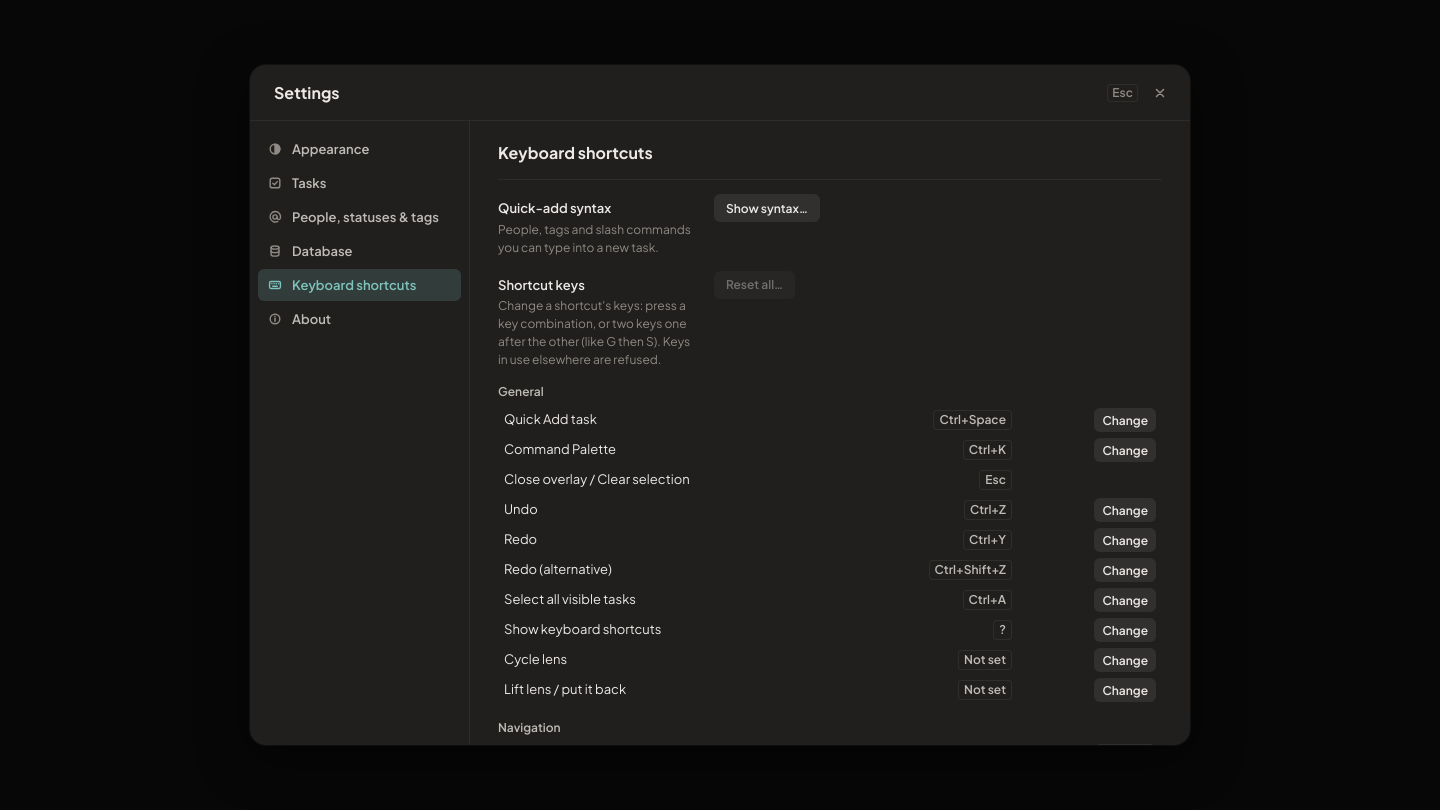
Test: Settings › Keyboard shortcuts editor › records a new combo, shows it as changed, and resets it
Step 1. Click the button with aria-label "Change keys for Command Palette" → (1125, 450), box left=1094, top=438, right=1156, bottom=462
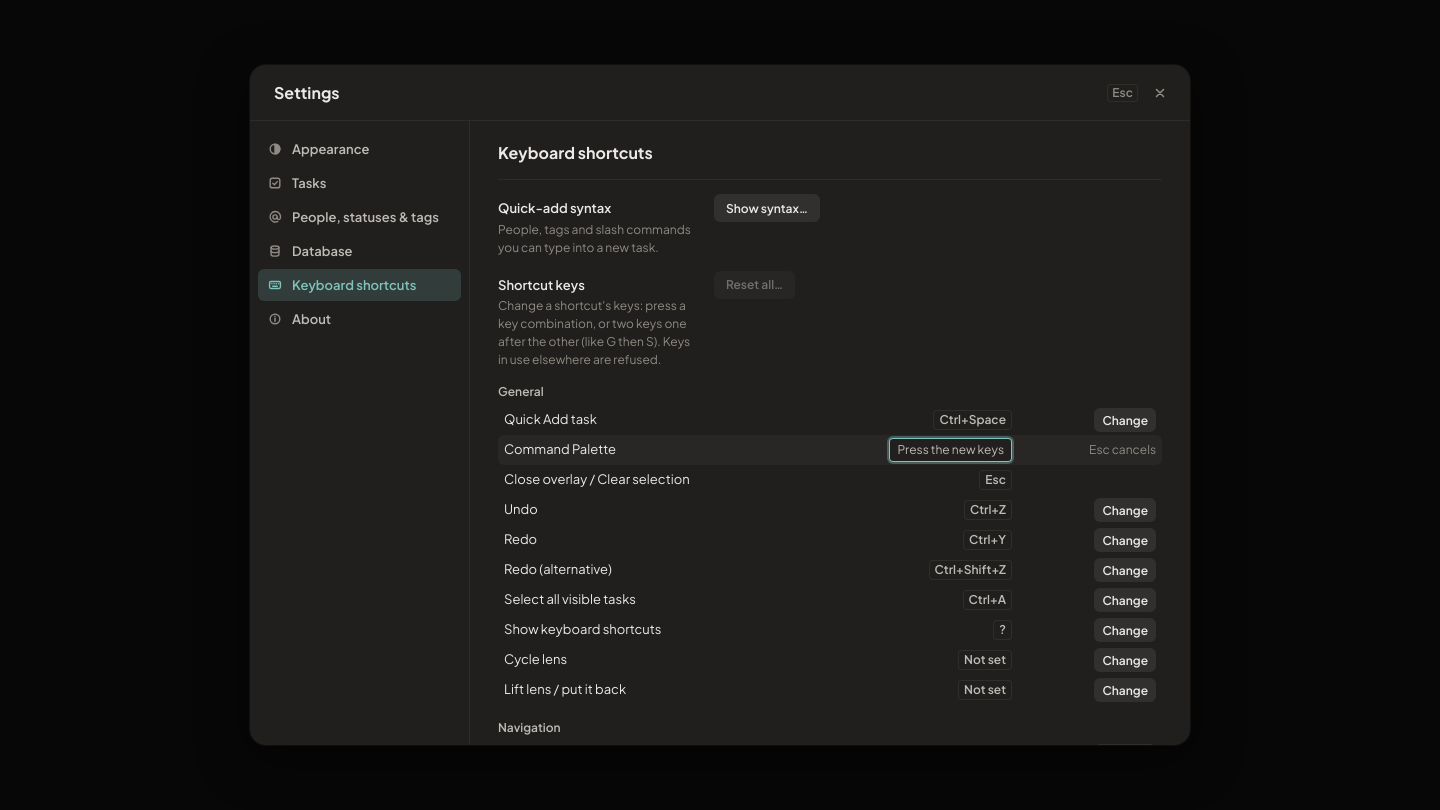
Step 2. Press Control in the field named "New keys for Command Palette", box left=889, top=438, right=1012, bottom=462
Step 3. Press P in the field named "New keys for Command Palette", box left=889, top=438, right=1012, bottom=462
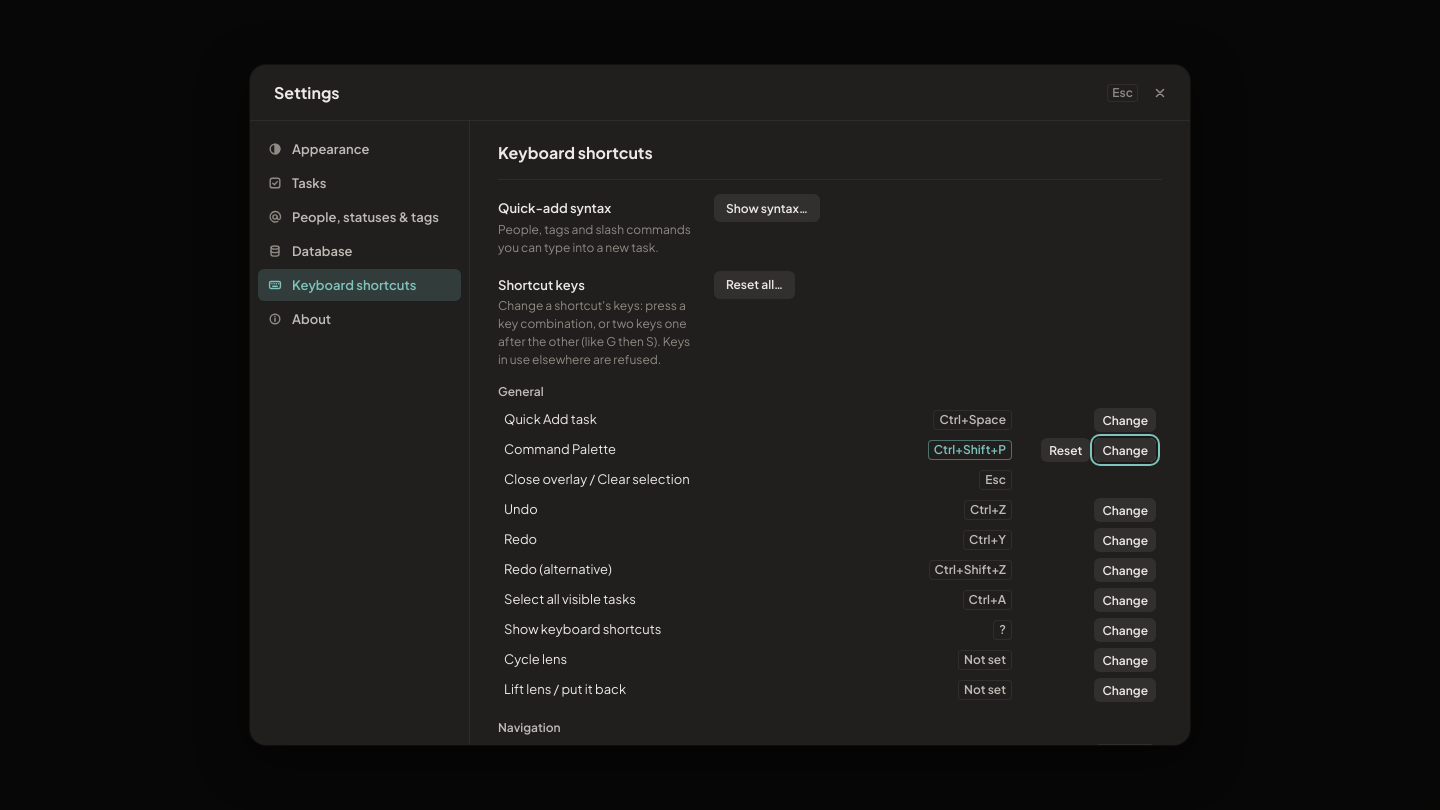
Expected: the text "Ctrl+Shift+P" is shown, left=928, top=440, right=1012, bottom=460
Step 4. Click the button with aria-label "Reset Command Palette to Ctrl+K" → (1066, 450), box left=1041, top=438, right=1090, bottom=462
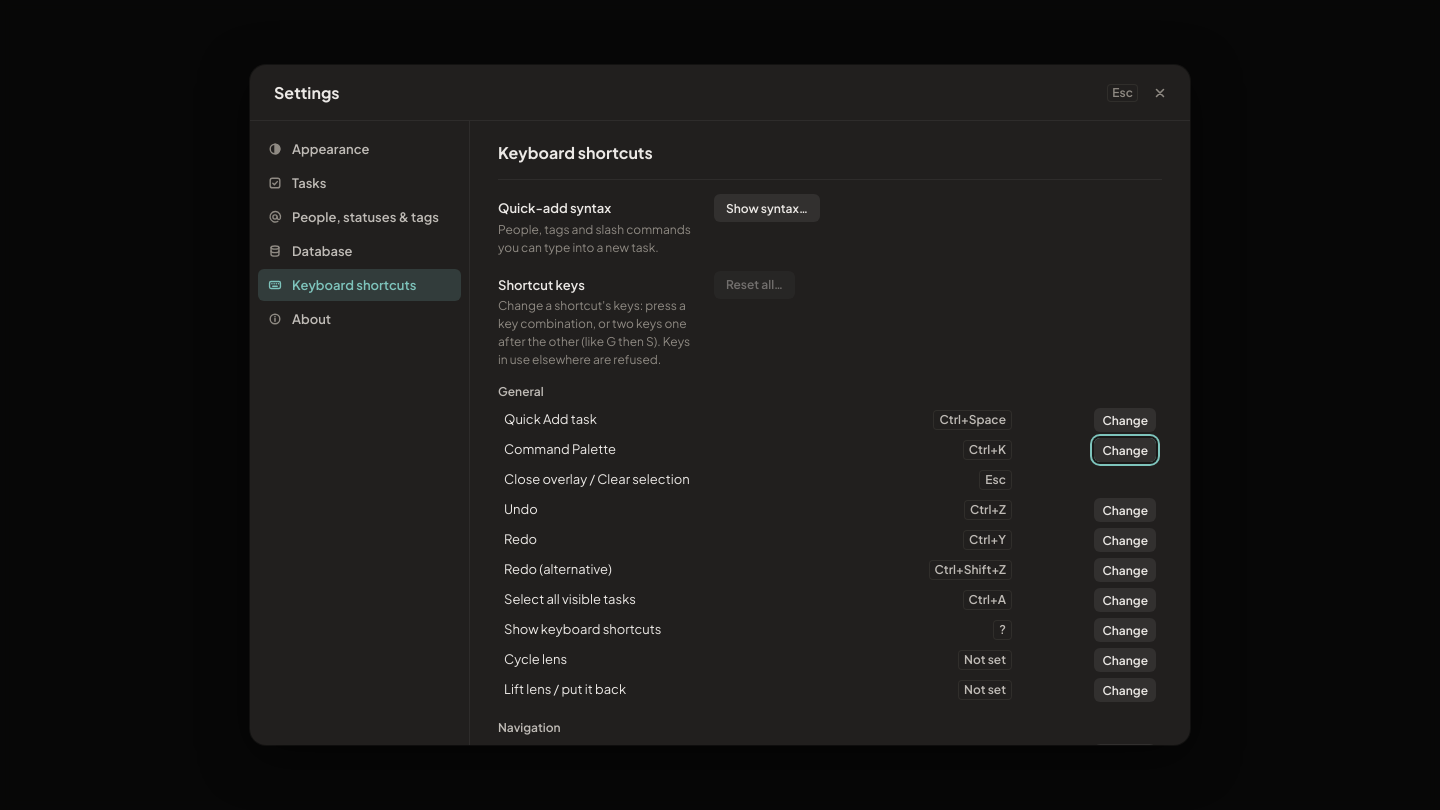
Expected: the text "Ctrl+K" is shown, left=963, top=440, right=1012, bottom=460
